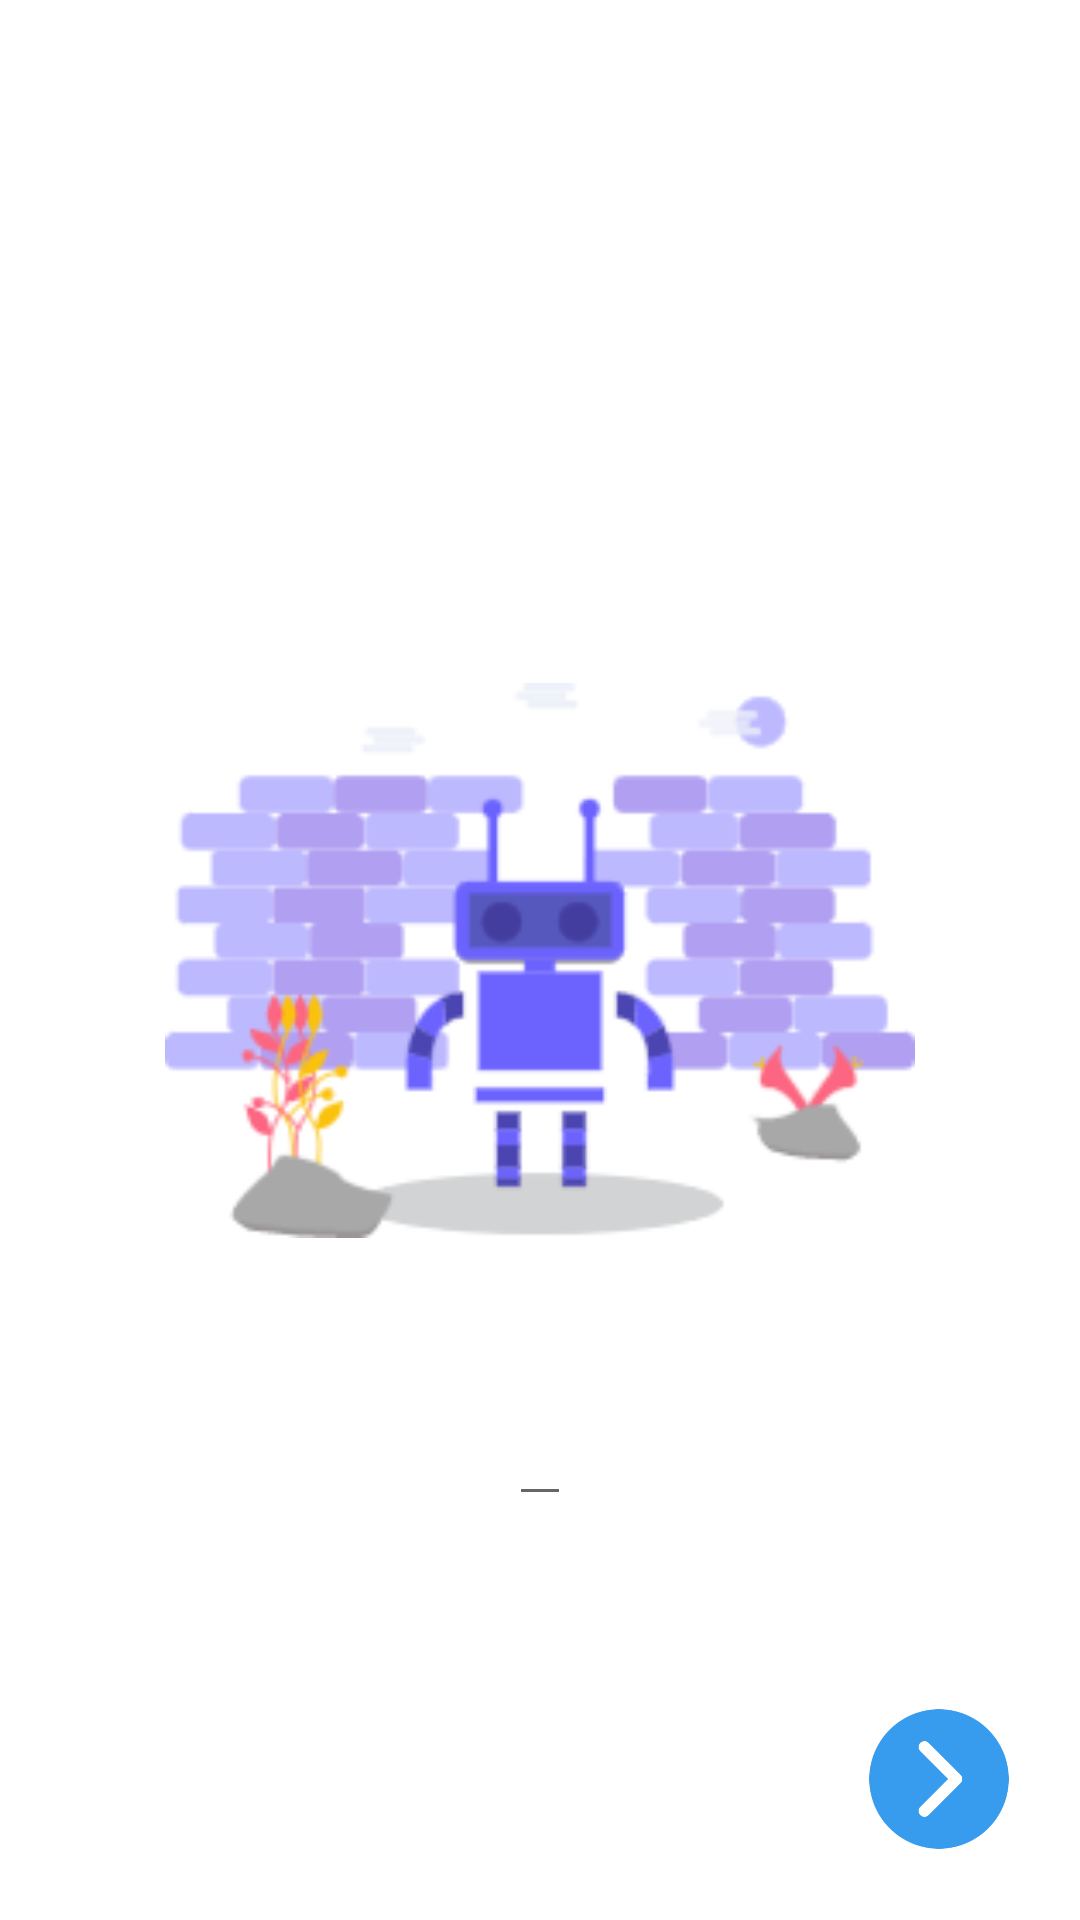

Where icons sit on this 1080px×1920px app screen, as box(x1, y1, x2, y2):
next: box(869, 1709, 1009, 1849)
